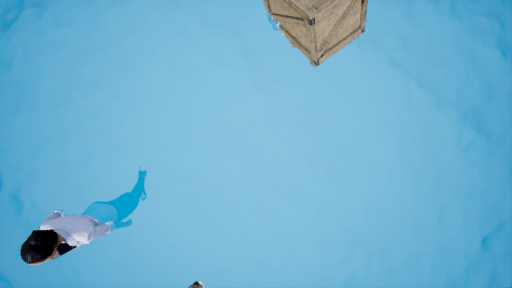person: (16, 174, 158, 271)
